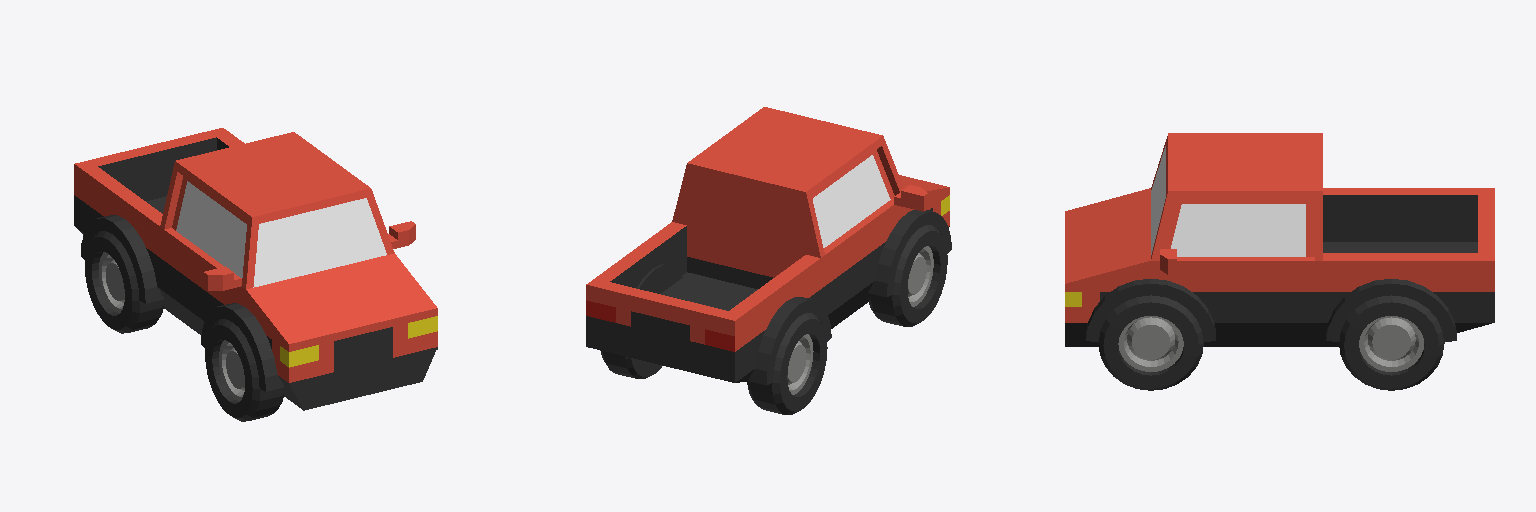
File: pickup_truck_red.obj
3 views of the same model, side by side, from view 1: azimuth 30°, elevation 25°; view 2: azimuth 150°, elevation 25°; view 3: azimuth 270°, elevation 25° (orthographic).
Visible parts, largest first — view 1: mergedBlocks; view 2: mergedBlocks; view 3: mergedBlocks.
Boxes of the visible parts, <box> form: mergedBlocks: <box>74,128,437,421</box>; mergedBlocks: <box>586,107,951,414</box>; mergedBlocks: <box>1065,133,1494,390</box>.
Bounding box in the file's own units: 1.4 × 1.21 × 2.5.